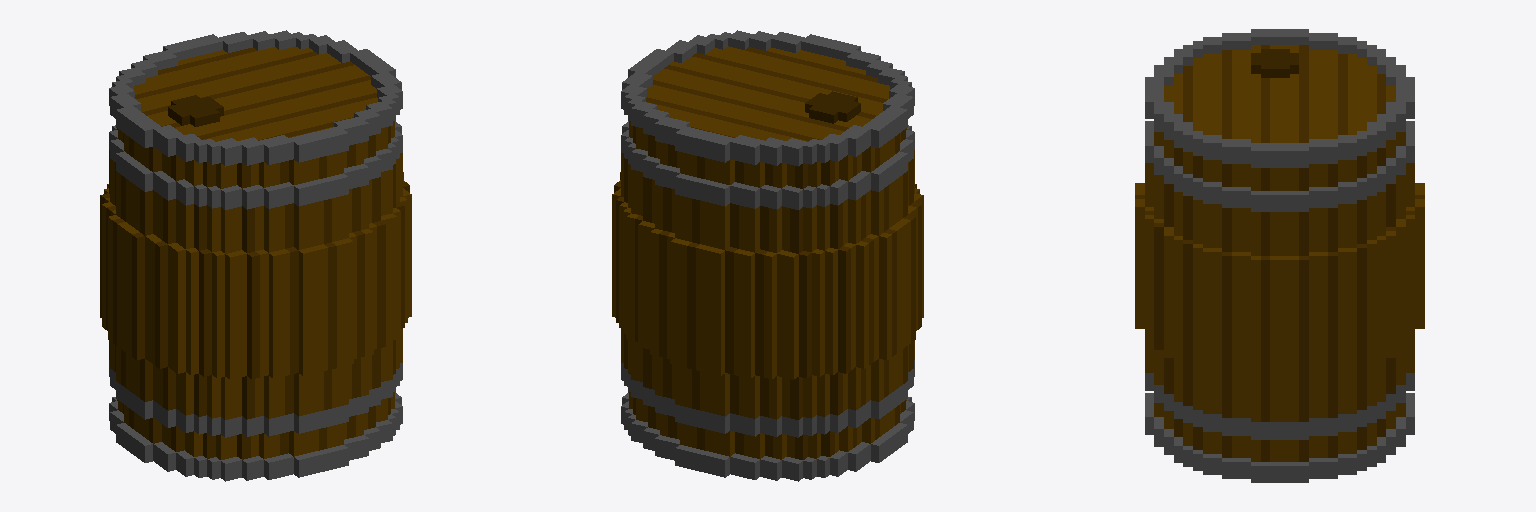
The picture shows the model from 3 angles: view 1: azimuth 30°, elevation 25°; view 2: azimuth 150°, elevation 25°; view 3: azimuth 270°, elevation 25°; orthographic projection.
Parts seen in each view (by area): view 1: object 1; view 2: object 1; view 3: object 1.
Boxes of the visible parts, <box> form: object 1: <box>100,30,411,481</box>; object 1: <box>612,30,923,481</box>; object 1: <box>1135,29,1424,482</box>.
Bounding box in the file's own units: 3.2 × 3.8 × 3.
1 materials, 1 textured.